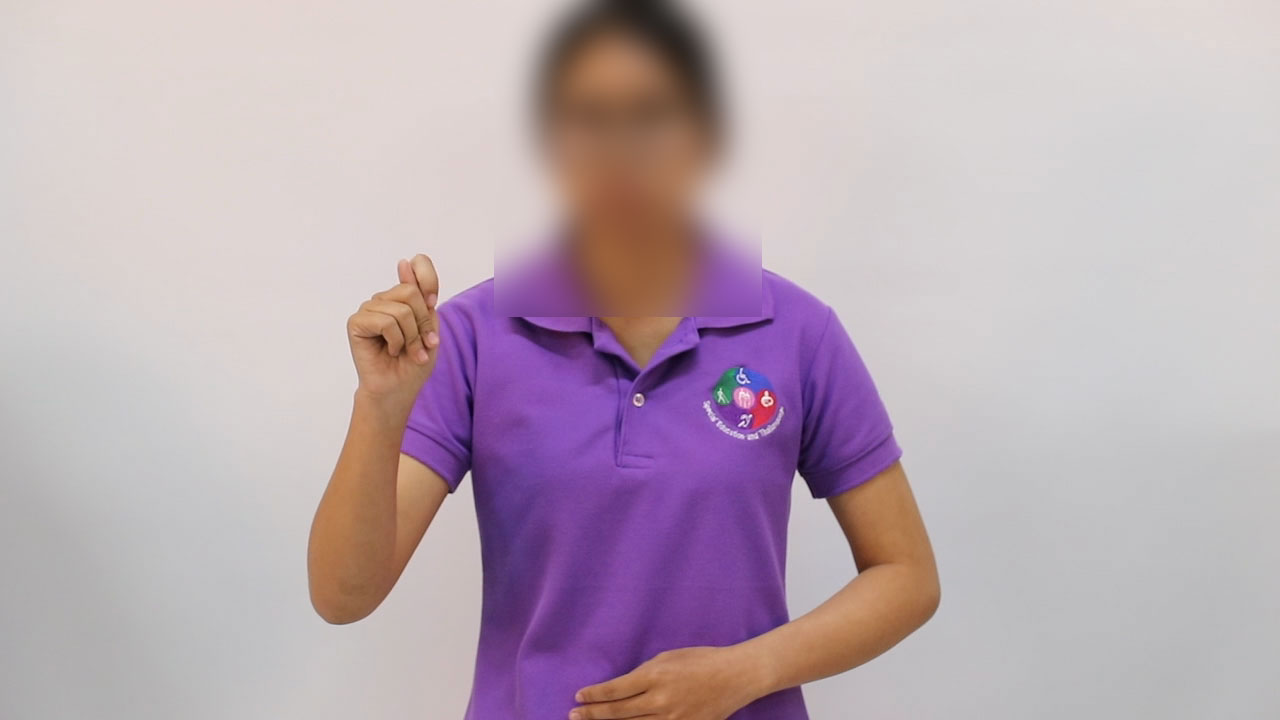tor: (318, 236, 475, 433)
